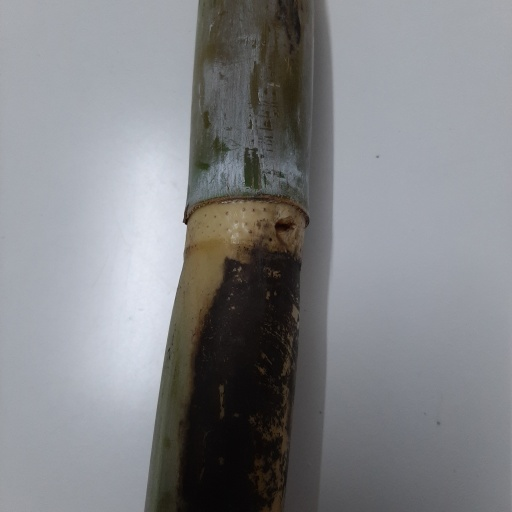Damage_Bud: (275, 216, 298, 255)
